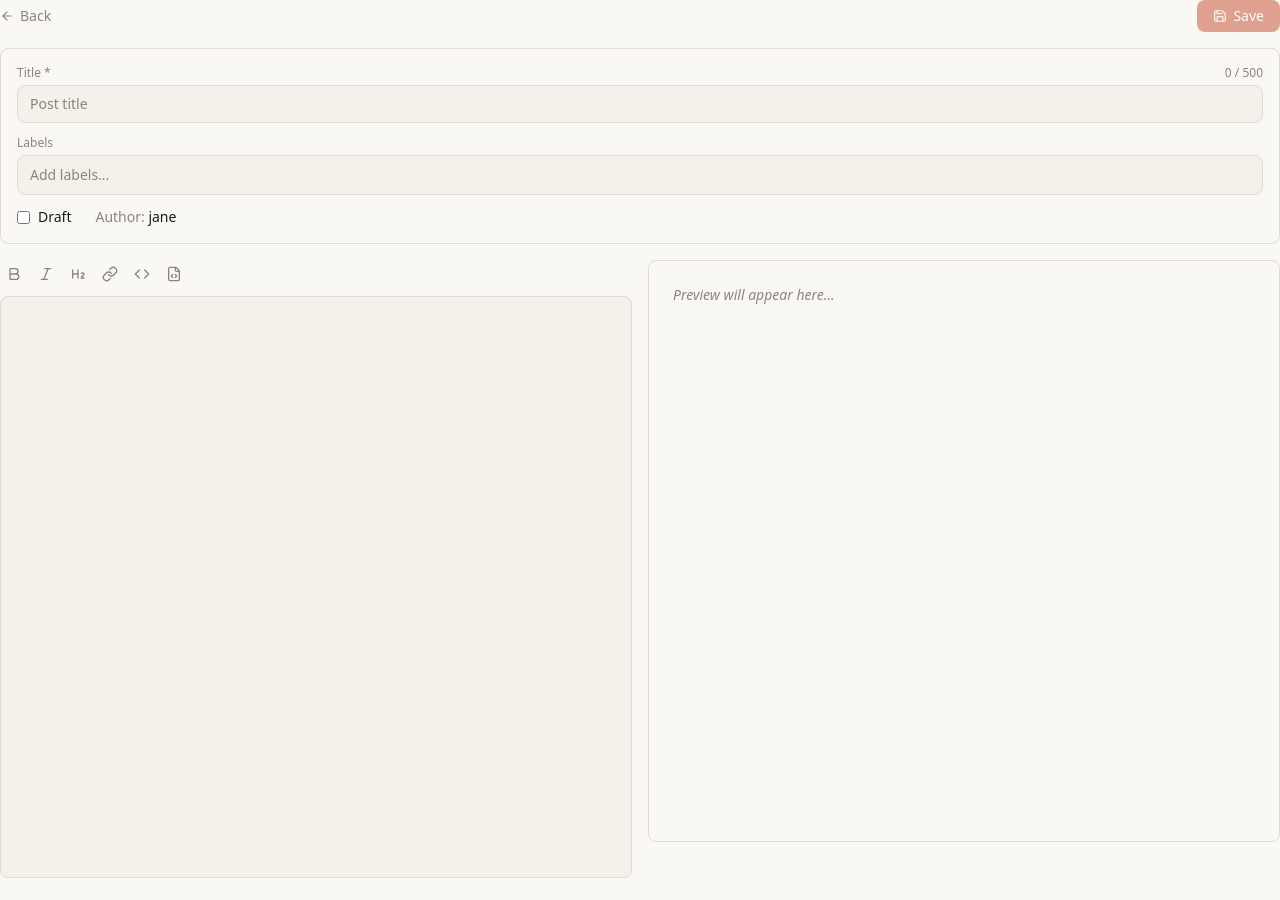
it: EditorPage › shows 422 validation error with string detail
The image size is (1280, 900).
Type "Test" into the field labelled "Title *" at coordinates (640, 104), box [17, 85, 1263, 123]
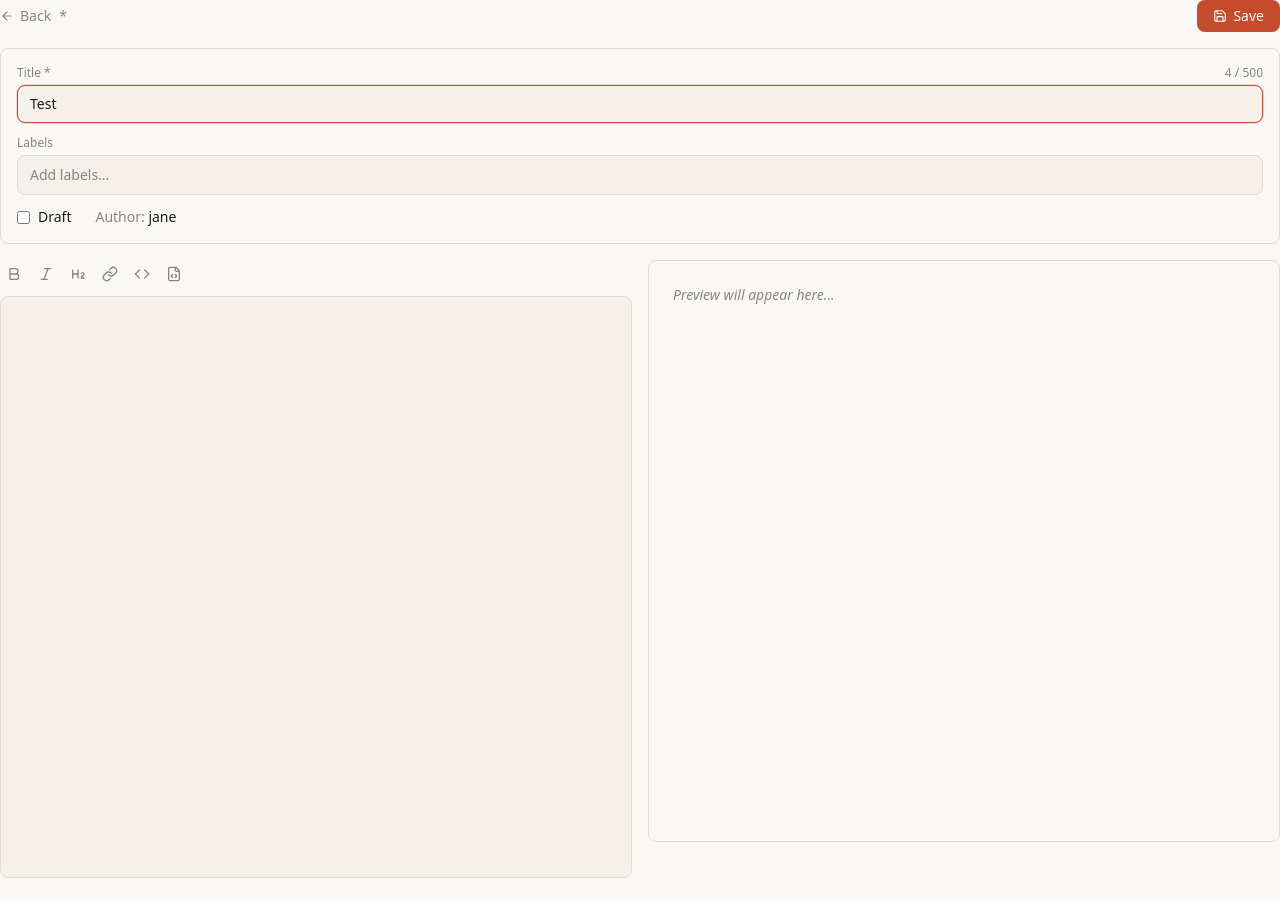
Click the button "Save" at coordinates (1239, 16), box [1197, 0, 1279, 32]
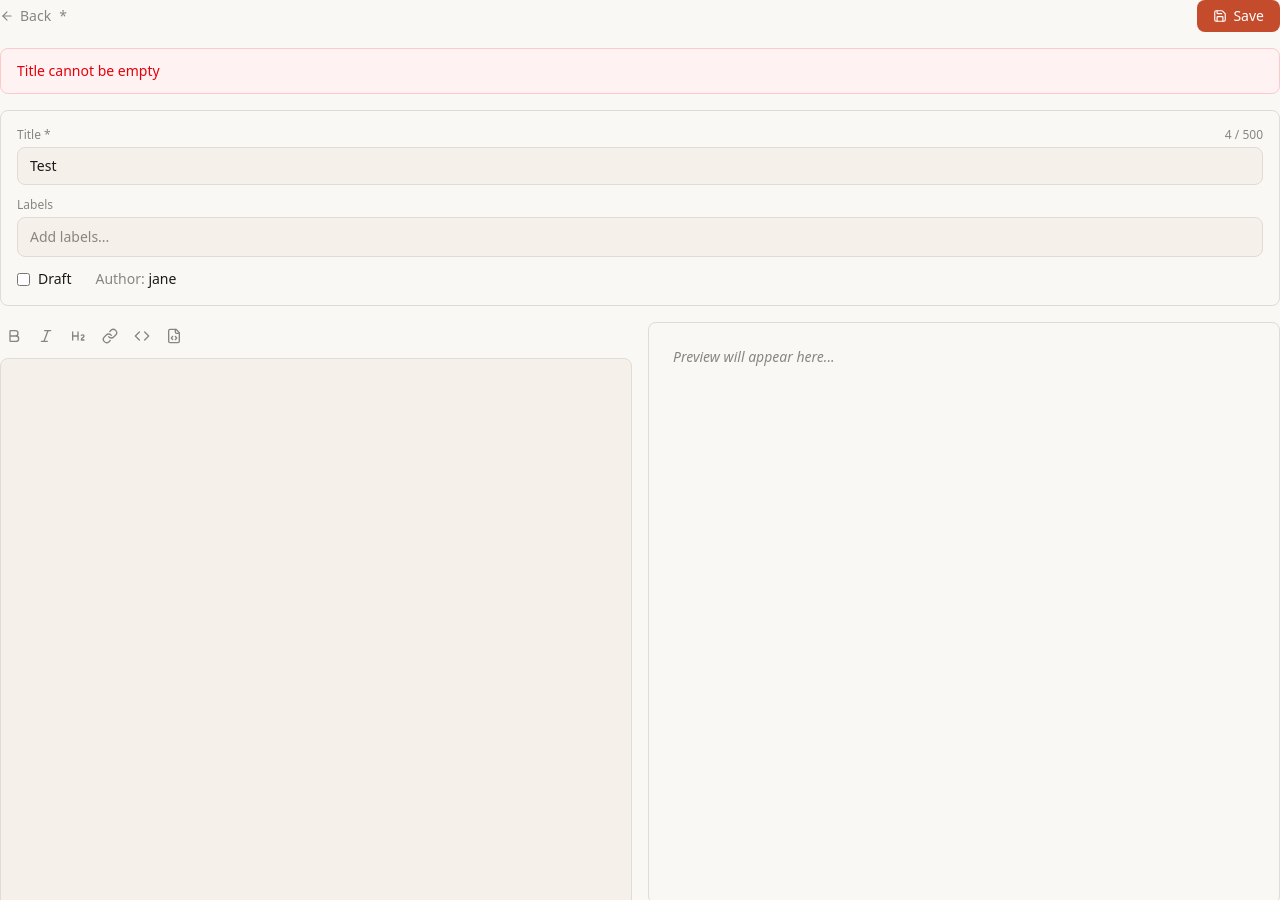
Expected: the text "Title cannot be empty" is shown, [0, 48, 1279, 94]
